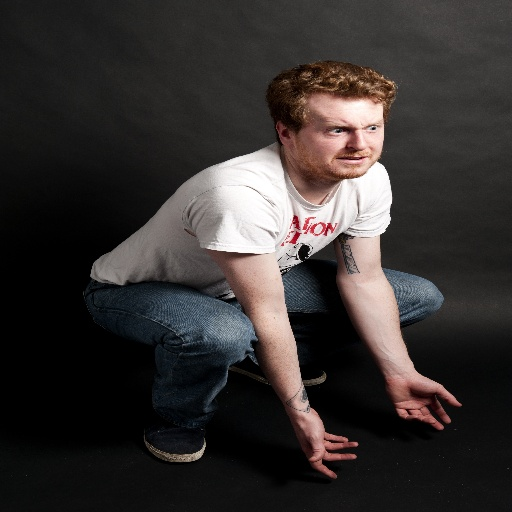hand: (381, 366, 464, 432), (289, 406, 359, 479)
